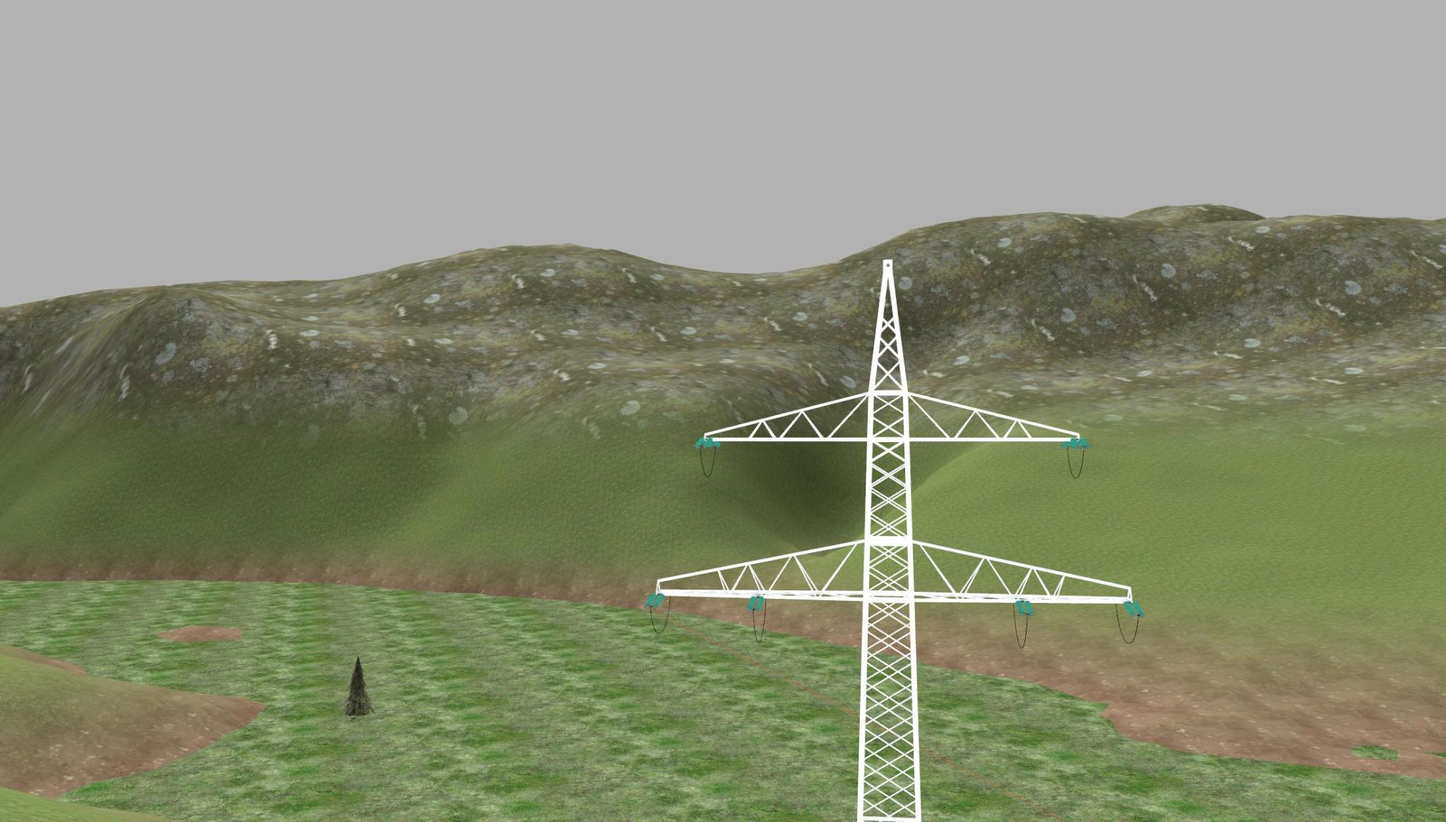tower: (652, 259, 1133, 822)
